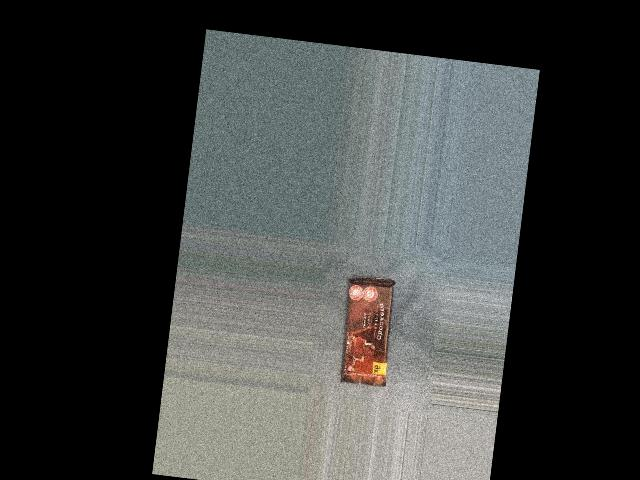chocolate: (330, 274, 406, 389)
